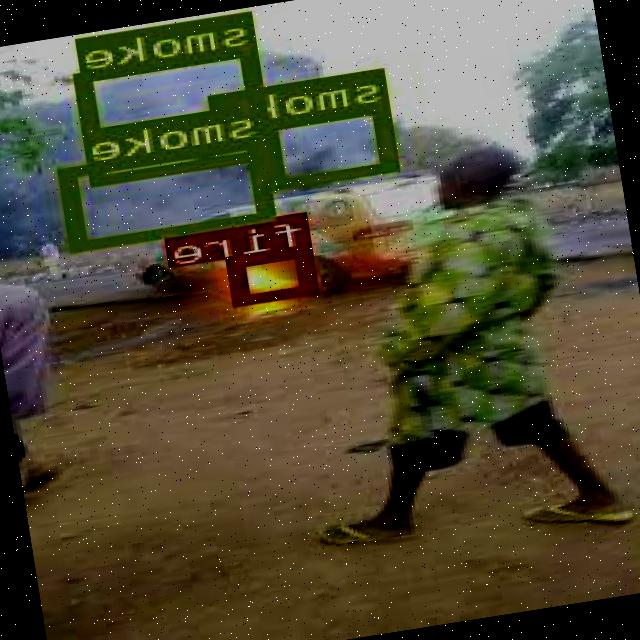fire: (231, 244, 320, 304)
smoke: (80, 43, 276, 183), (62, 136, 278, 251), (264, 100, 402, 187)
